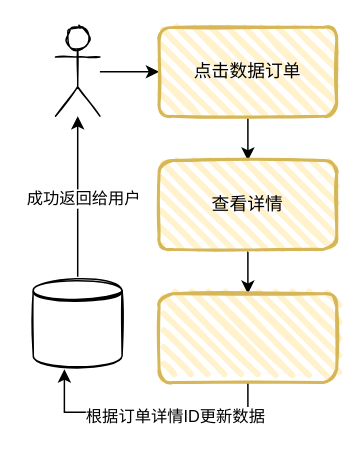
Some shapes in this 363 by 450 pixel diagram are drawn without their labels. The box of each missing label's shape, as (x1, y1, x2, y2) in pixels:
修改数据并保存: (157, 292, 337, 383)
用户: (54, 26, 100, 116)
